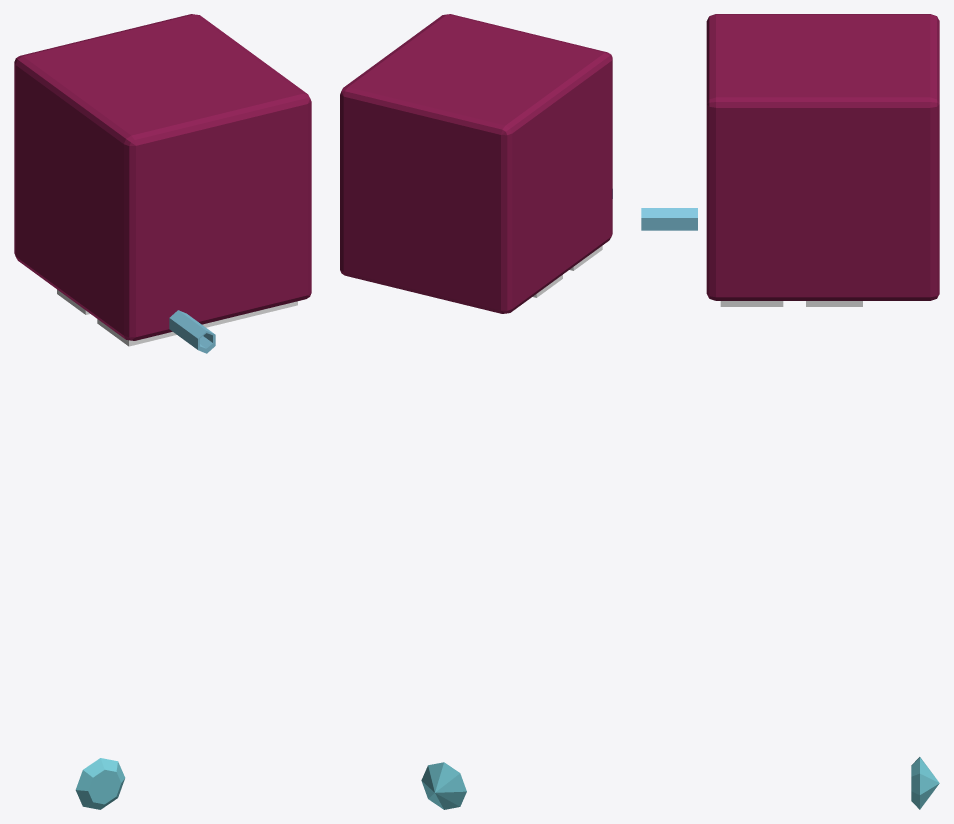
The model's file is tinker.obj.
3 renders of one model, left to right at view 1: azimuth 30°, elevation 25°; view 2: azimuth 150°, elevation 25°; view 3: azimuth 270°, elevation 25°, orthographic. The views are drawn at different scales.
Parts seen in each view (by area): view 1: group_0_9444435, group_0_7720667, group_0_8768998, group_0_16448250; view 2: group_0_9444435, group_0_7720667; view 3: group_0_9444435, group_0_8768998, group_0_7720667, group_0_16448250.
Boxes of the visible parts, x1,y1,x2,y2 form: group_0_9444435: (14, 14, 311, 340); group_0_7720667: (75, 758, 125, 809); group_0_8768998: (169, 310, 215, 353); group_0_16448250: (57, 289, 297, 346); group_0_9444435: (340, 14, 612, 313); group_0_7720667: (421, 762, 466, 809); group_0_9444435: (706, 14, 939, 300); group_0_8768998: (641, 208, 697, 230); group_0_7720667: (911, 757, 939, 809); group_0_16448250: (720, 301, 862, 306).
Size of the model in its own units: 75 by 295 by 105.
